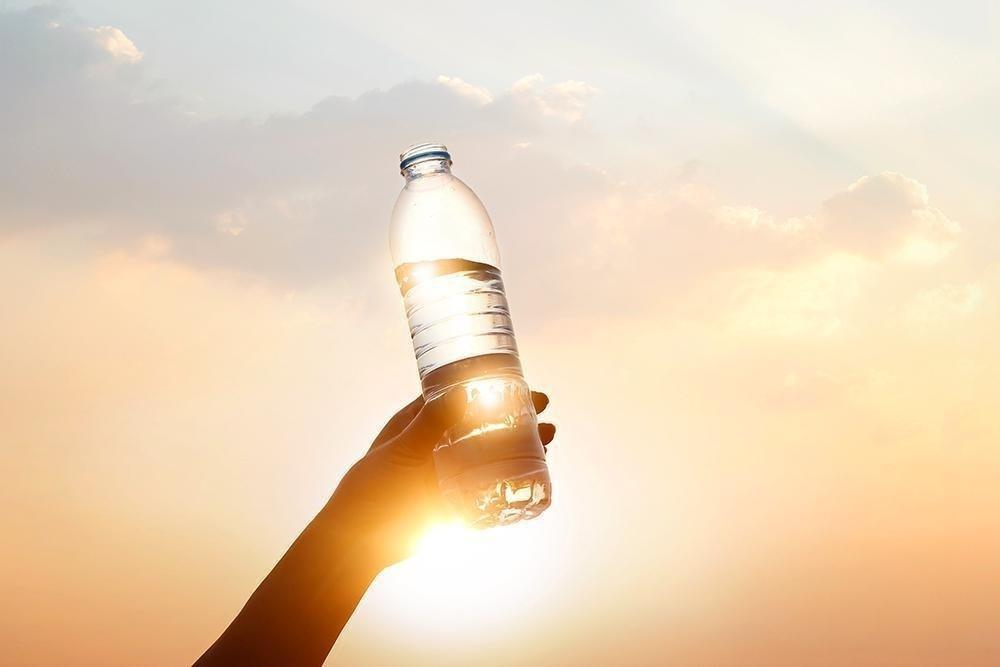bottle-plastic: (385, 138, 557, 533)
